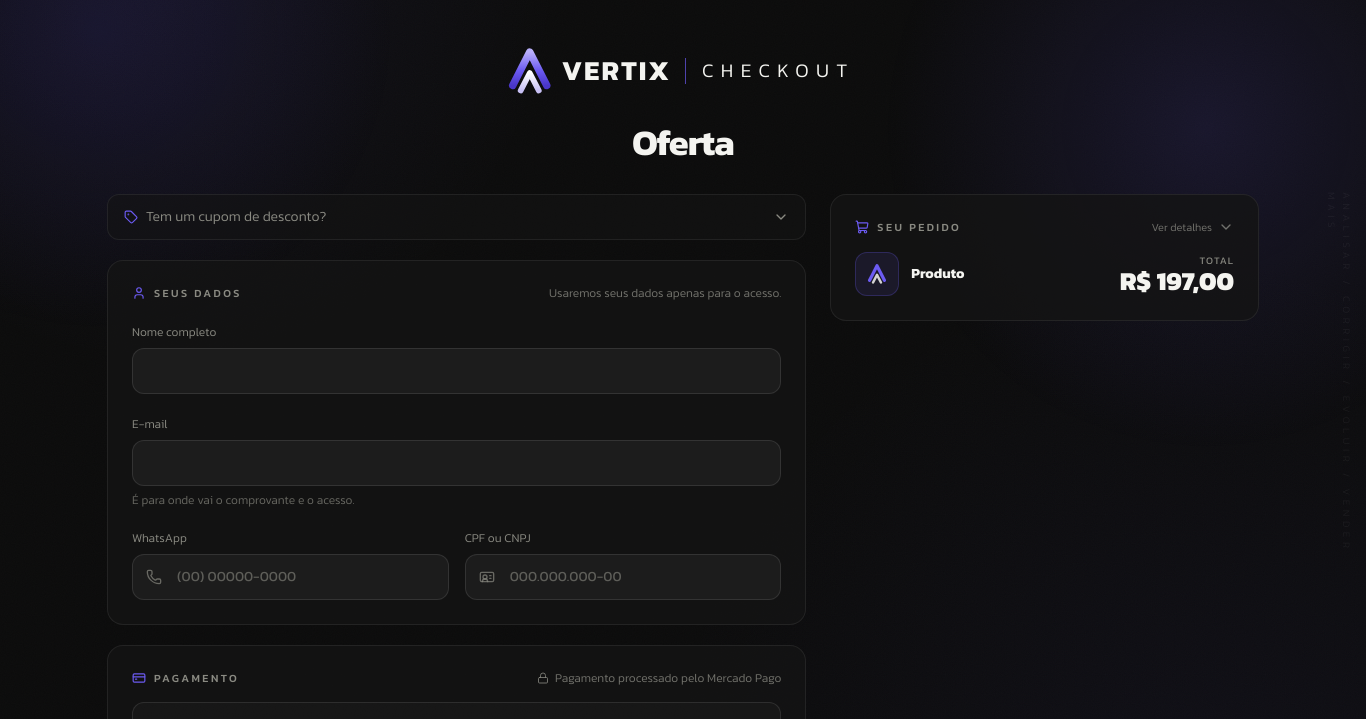
CheckoutPage — dados que vêm da análise › resposta atrasada NÃO apaga o que a pessoa já digitou
This screenshot has width=1366, height=719.
expect the heading "Seus dados" is shown: met, box [132,285,242,302]
Type "outro@meu.com.br" into the field labelled "E-mail".
click(457, 462); type("outro@meu.com.br")  # box [132,440,781,486]
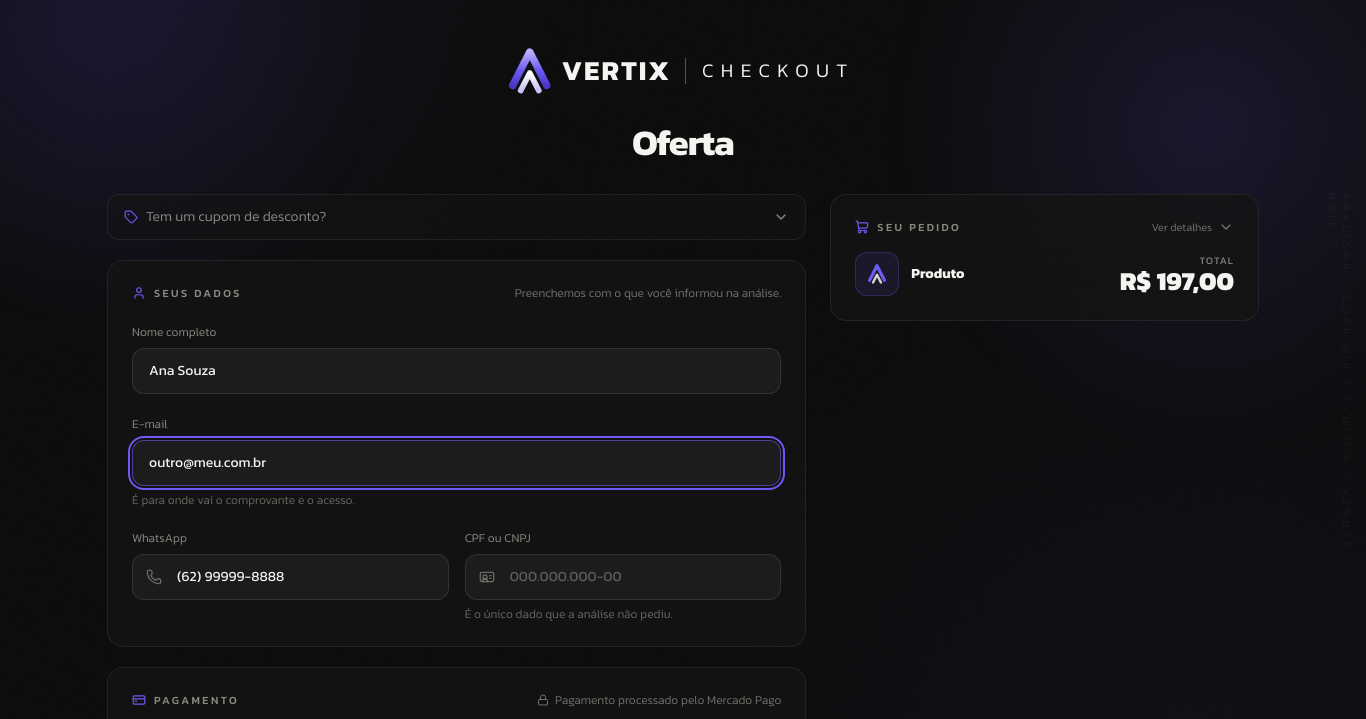
expect the field labelled "Nome completo" holds "Ana Souza": met, box [132,348,781,394]
